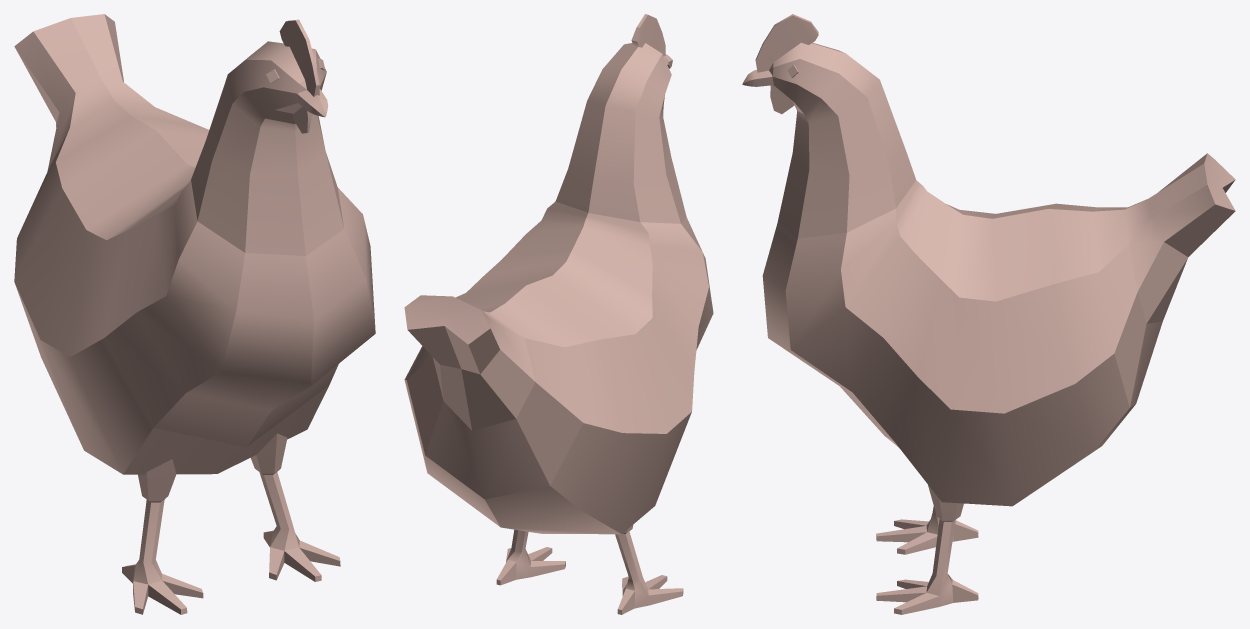
Rendered from volaille.glb.
3 views of the same model, side by side, from view 1: azimuth 30°, elevation 25°; view 2: azimuth 150°, elevation 25°; view 3: azimuth 270°, elevation 25° (orthographic). The views are drawn at different scales.
Visible parts, largest first — view 1: Geo_Hen; view 2: Geo_Hen; view 3: Geo_Hen.
Part boxes in pixels (bbox=[...]): Geo_Hen: bbox=[14, 14, 375, 614]; Geo_Hen: bbox=[404, 14, 713, 614]; Geo_Hen: bbox=[742, 14, 1235, 614].
Bounding box in the file's own units: 36.96 × 77.08 × 62.1.
